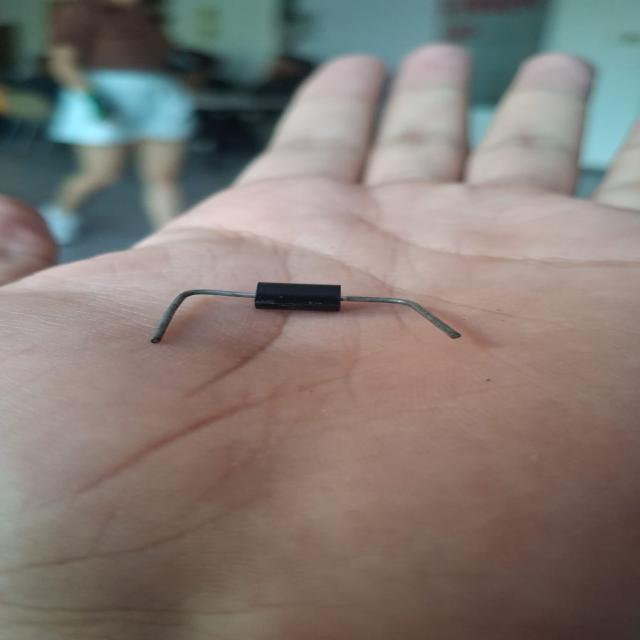Diodo: (149, 282, 461, 344)
